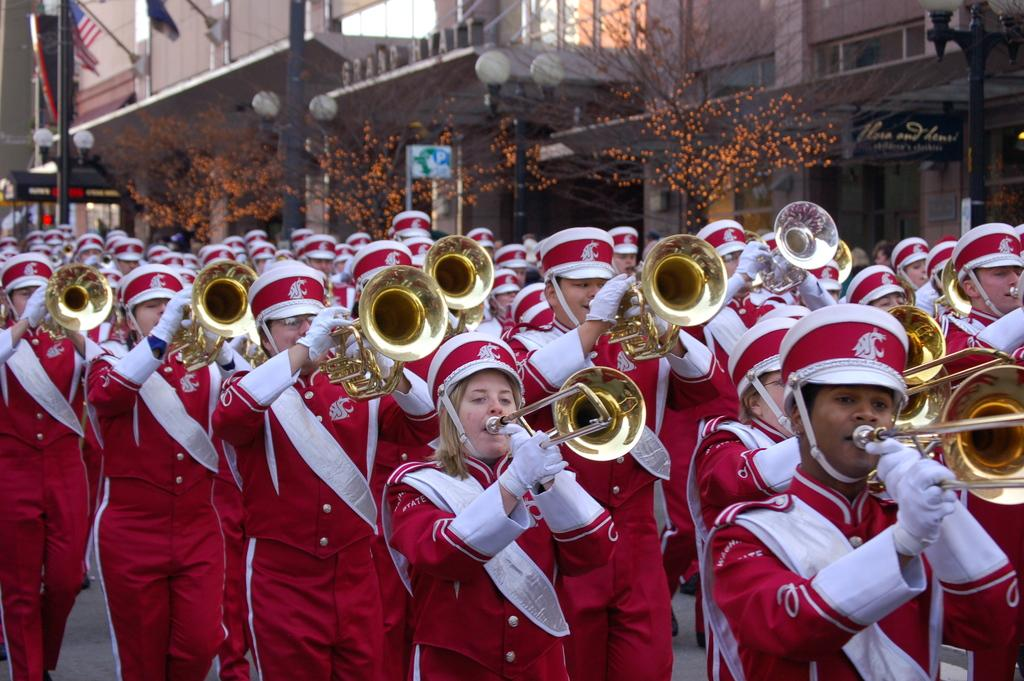Hat: (0, 208, 1023, 460)
